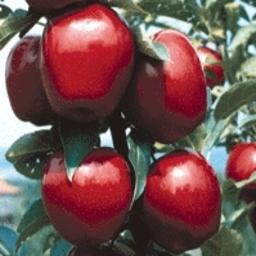apple: (39, 6, 134, 122), (41, 145, 135, 250), (124, 31, 207, 142), (141, 152, 222, 252), (5, 35, 55, 123)
